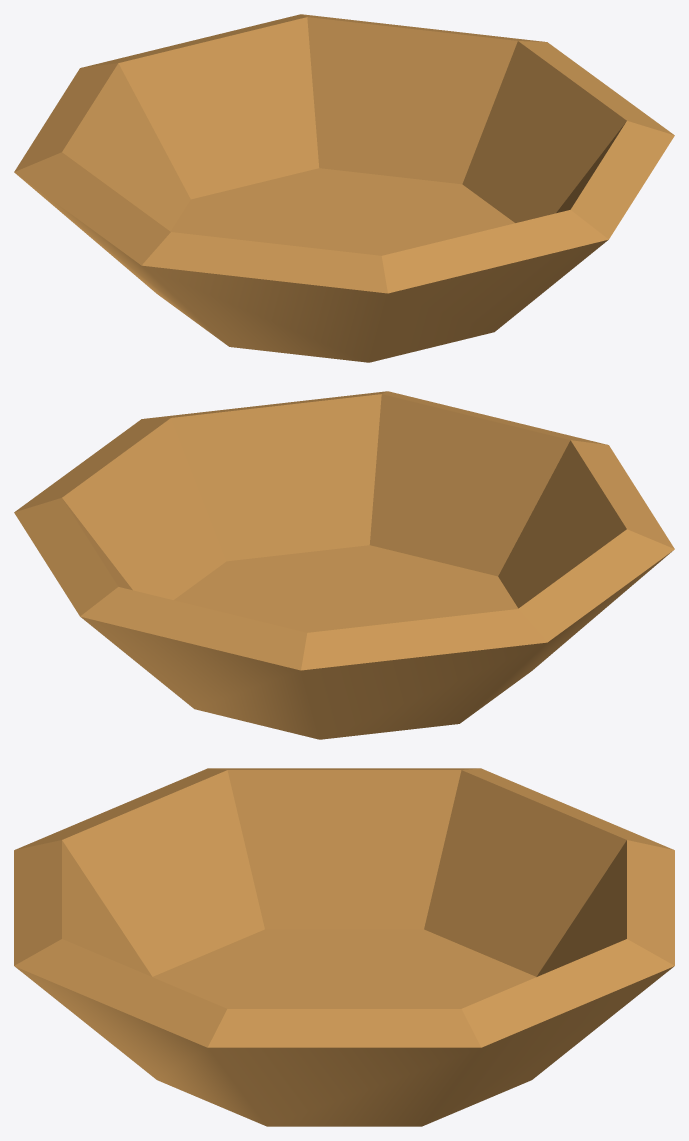
Rendered from SM_Prop_Gold_Plate_03.glb.
3 renders of one model, top to bottom at view 1: azimuth 30°, elevation 25°; view 2: azimuth 150°, elevation 25°; view 3: azimuth 270°, elevation 25°, orthographic. The views are drawn at different scales.
Parts seen in each view (by area): view 1: SM_Prop_Gold_Plate_03; view 2: SM_Prop_Gold_Plate_03; view 3: SM_Prop_Gold_Plate_03.
Boxes of the visible parts, <box> form: SM_Prop_Gold_Plate_03: <box>14,14,674,362</box>; SM_Prop_Gold_Plate_03: <box>14,391,674,739</box>; SM_Prop_Gold_Plate_03: <box>14,768,674,1126</box>.
Bounding box in the file's own units: 0.3913 × 0.1031 × 0.3913.
Materials: 1 (1 with a texture image).
